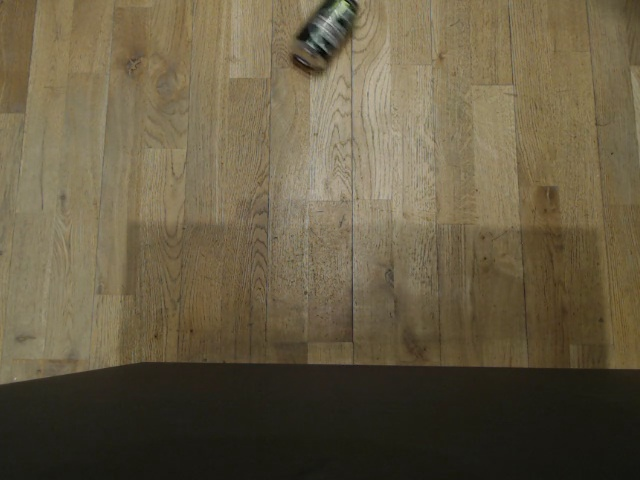beer: (286, 0, 358, 73)
